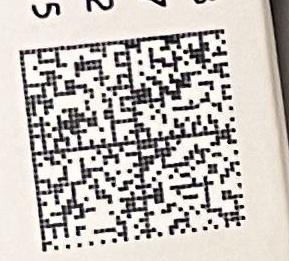datamatrix: (20, 30, 247, 252)
